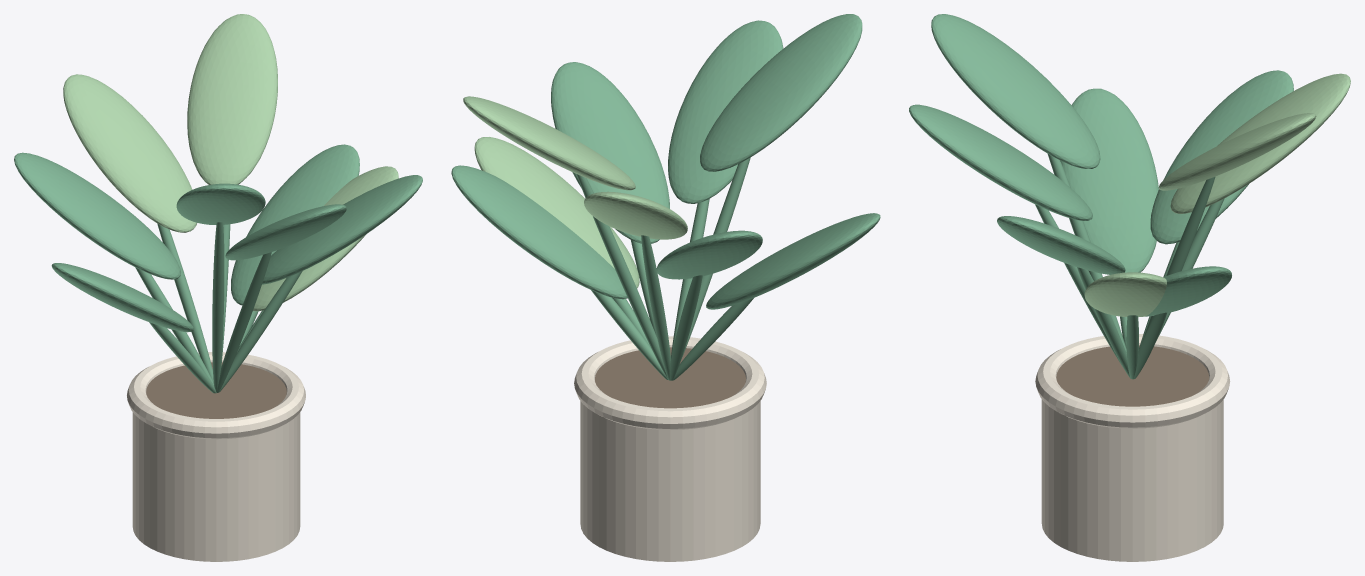
Rendered from floor-plant.glb.
3 views of the same model, side by side, from view 1: azimuth 30°, elevation 25°; view 2: azimuth 150°, elevation 25°; view 3: azimuth 270°, elevation 25° (orthographic). The views are drawn at different scales.
Visible parts, largest first — view 1: pot, leaf3, leaf6, leaf1, potrim, soil, leaf5, leaf8, leaf4, leaf7, leaf2, leaf0 (+6 smaller); view 2: pot, leaf7, leaf5, leaf2, leaf8, potrim, soil, leaf0, leaf4, leaf3, leaf6, leaf1 (+8 smaller); view 3: pot, leaf4, leaf7, potrim, leaf2, soil, leaf6, leaf1, leaf3, leaf5, leaf0, leaf8 (+7 smaller).
Boxes of the visible parts, x1,y1,x2,y2 form: pot: (132, 412, 300, 561); leaf3: (187, 14, 277, 184); leaf6: (63, 74, 196, 232); leaf1: (14, 152, 180, 279); potrim: (127, 352, 305, 439); soil: (146, 362, 286, 418); leaf5: (262, 175, 422, 284); leaf8: (231, 144, 359, 305); leaf4: (51, 263, 193, 332); leaf7: (176, 183, 265, 224); leaf2: (225, 204, 346, 260); leaf0: (253, 166, 398, 311); pot: (580, 401, 760, 561); leaf7: (700, 14, 862, 171); leaf5: (551, 62, 669, 243); leaf2: (668, 20, 783, 203); leaf8: (451, 165, 627, 299); potrim: (574, 336, 766, 429); soil: (595, 347, 745, 408); leaf0: (474, 137, 639, 288); leaf4: (706, 213, 880, 309); leaf3: (463, 96, 635, 190); leaf6: (584, 191, 687, 239); leaf1: (656, 230, 762, 279); pot: (1041, 399, 1223, 561); leaf4: (1060, 88, 1158, 274); leaf7: (931, 14, 1100, 168); potrim: (1035, 334, 1230, 428); leaf2: (909, 104, 1092, 220); soil: (1056, 345, 1209, 406); leaf6: (1170, 73, 1350, 213); leaf1: (1150, 70, 1293, 244); leaf3: (1158, 113, 1316, 190); leaf5: (997, 216, 1125, 274); leaf0: (1084, 272, 1166, 317); leaf8: (1145, 266, 1231, 316).
Size of the model in its own units: 1.2 by 1.38 by 1.19.
